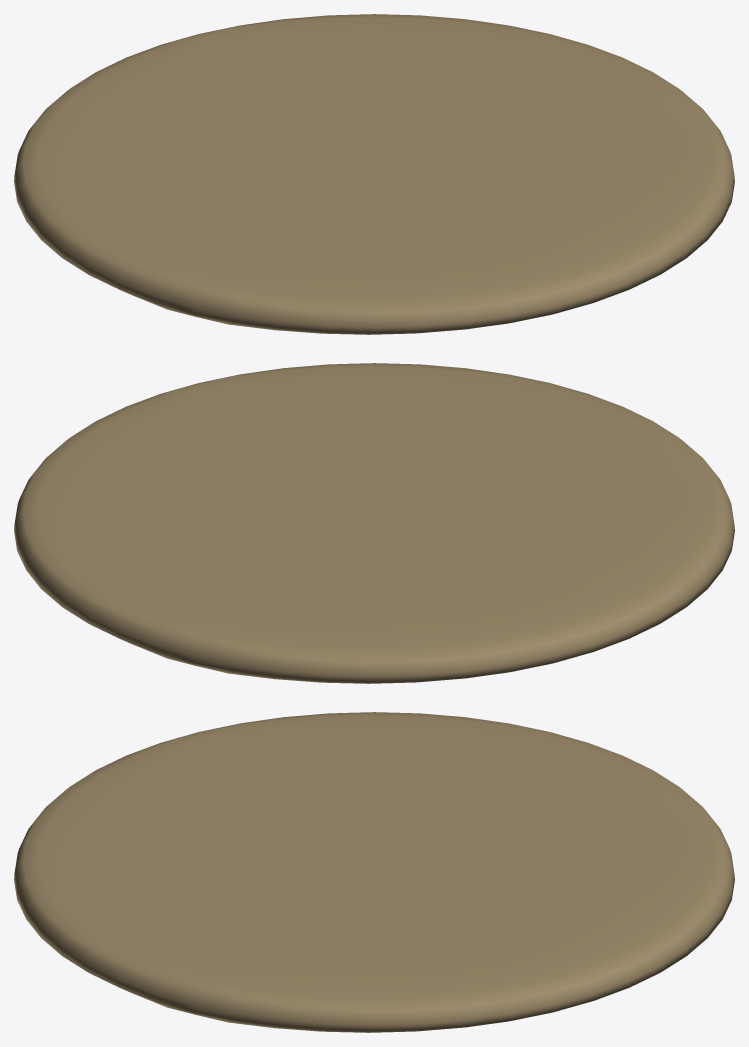
File: pressureplate.fbx
3 views of the same model, one above another, from view 1: azimuth 30°, elevation 25°; view 2: azimuth 150°, elevation 25°; view 3: azimuth 270°, elevation 25° (orthographic).
Visible parts, largest first — view 1: pDisc1; view 2: pDisc1; view 3: pDisc1.
Boxes of the visible parts, x1=… form: pDisc1: x1=14, y1=14, x2=734, y2=334; pDisc1: x1=14, y1=363, x2=734, y2=683; pDisc1: x1=14, y1=712, x2=734, y2=1032.
Size of the model in its own units: 4.22 by 0.2021 by 4.22.
